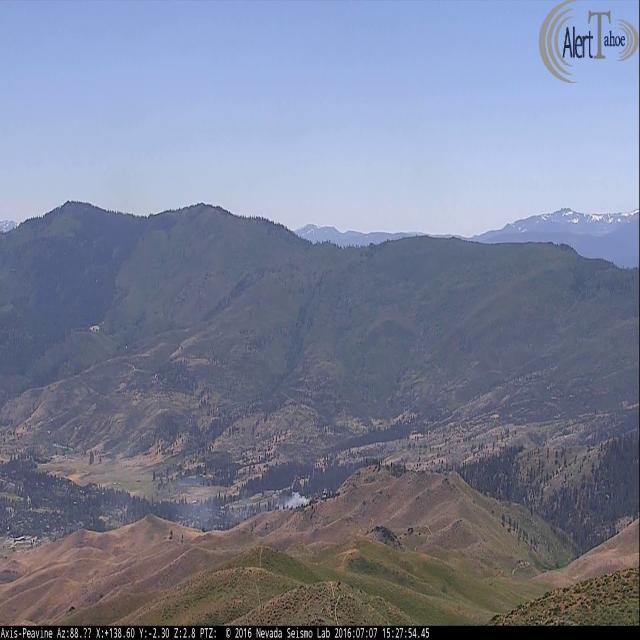smoke: (165, 454, 312, 538)
